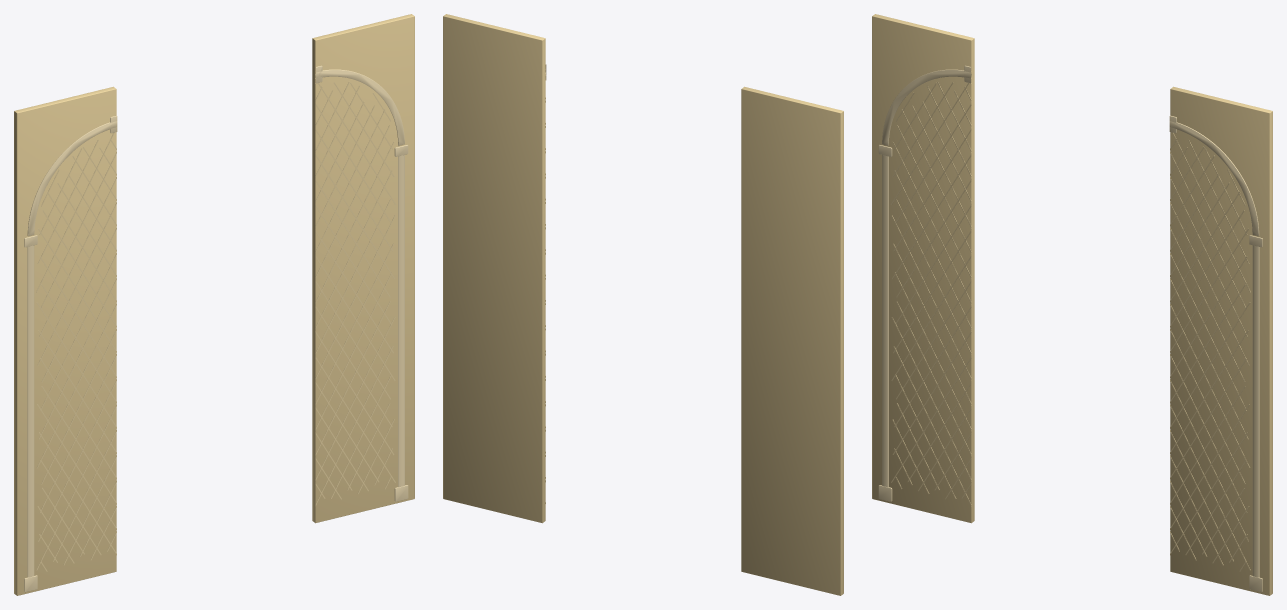
The model's file is landing_door_TM005.glb.
3 views of the same model, side by side, from view 1: azimuth 30°, elevation 25°; view 2: azimuth 150°, elevation 25°; view 3: azimuth 330°, elevation 25° (orthographic).
Parts seen in each view (by area): view 1: Landing_Door_L, Landing_Door_R; view 2: Landing_Door_R, Landing_Door_L; view 3: Landing_Door_R, Landing_Door_L.
Boxes of the visible parts, left/top/right/bottom form: Landing_Door_L: left=14, top=86, right=117, bottom=595; Landing_Door_R: left=312, top=14, right=414, bottom=523; Landing_Door_R: left=443, top=14, right=546, bottom=523; Landing_Door_L: left=741, top=86, right=843, bottom=595; Landing_Door_R: left=1169, top=86, right=1272, bottom=595; Landing_Door_L: left=872, top=14, right=974, bottom=523.
Bounding box in the file's own units: 1.81 × 2.1 × 0.029.
